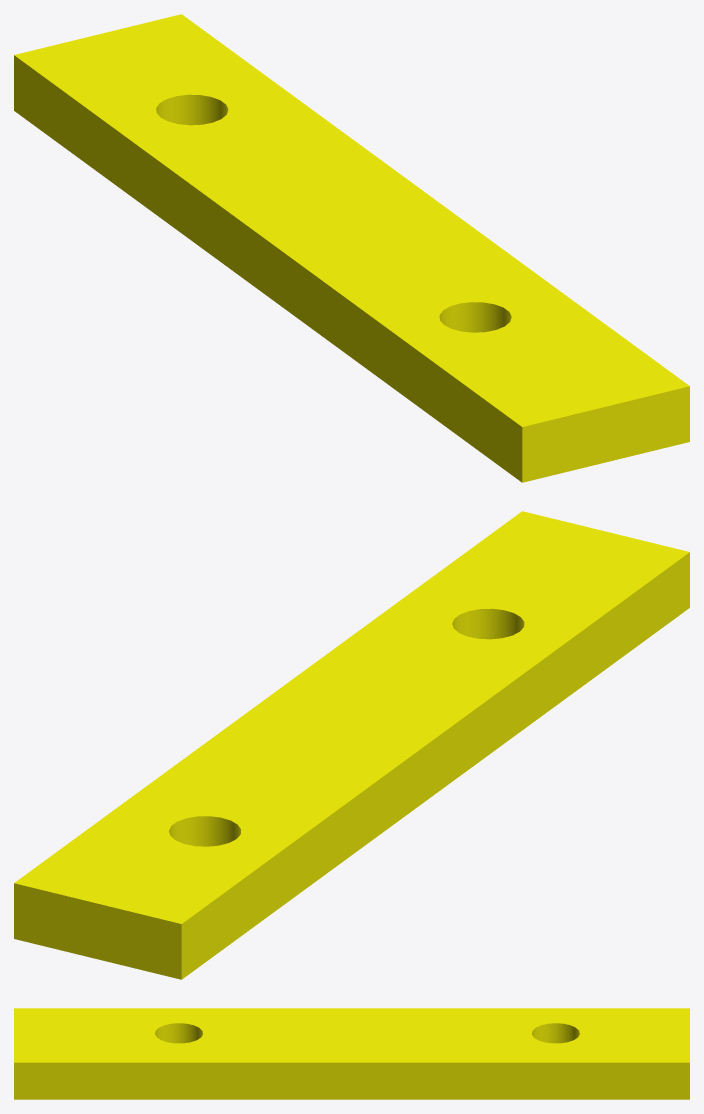
3 renders of one model, top to bottom at view 1: azimuth 30°, elevation 25°; view 2: azimuth 150°, elevation 25°; view 3: azimuth 270°, elevation 25°, orthographic. The views are drawn at different scales.
Parts seen in each view (by area): view 1: mi; view 2: mi; view 3: mi.
Boxes of the visible parts, x1,y1,x2,y2 form: mi: (14, 14, 689, 482); mi: (14, 511, 689, 979); mi: (14, 1008, 689, 1099).
Bounding box in the file's own units: 0.0945 × 0.03 × 0.4961.
